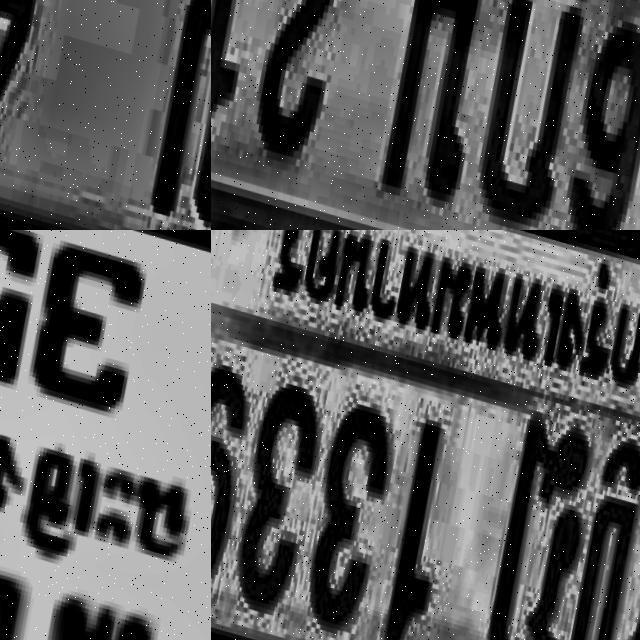license-plate: (211, 230, 640, 640), (211, 0, 640, 230), (0, 230, 211, 640), (0, 0, 211, 230)
